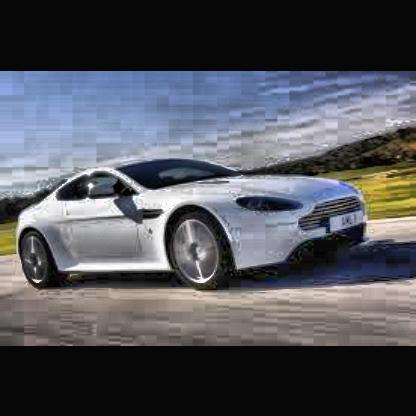Aston Martin V8 Vantage Coupe 2012: (19, 158, 374, 296)
